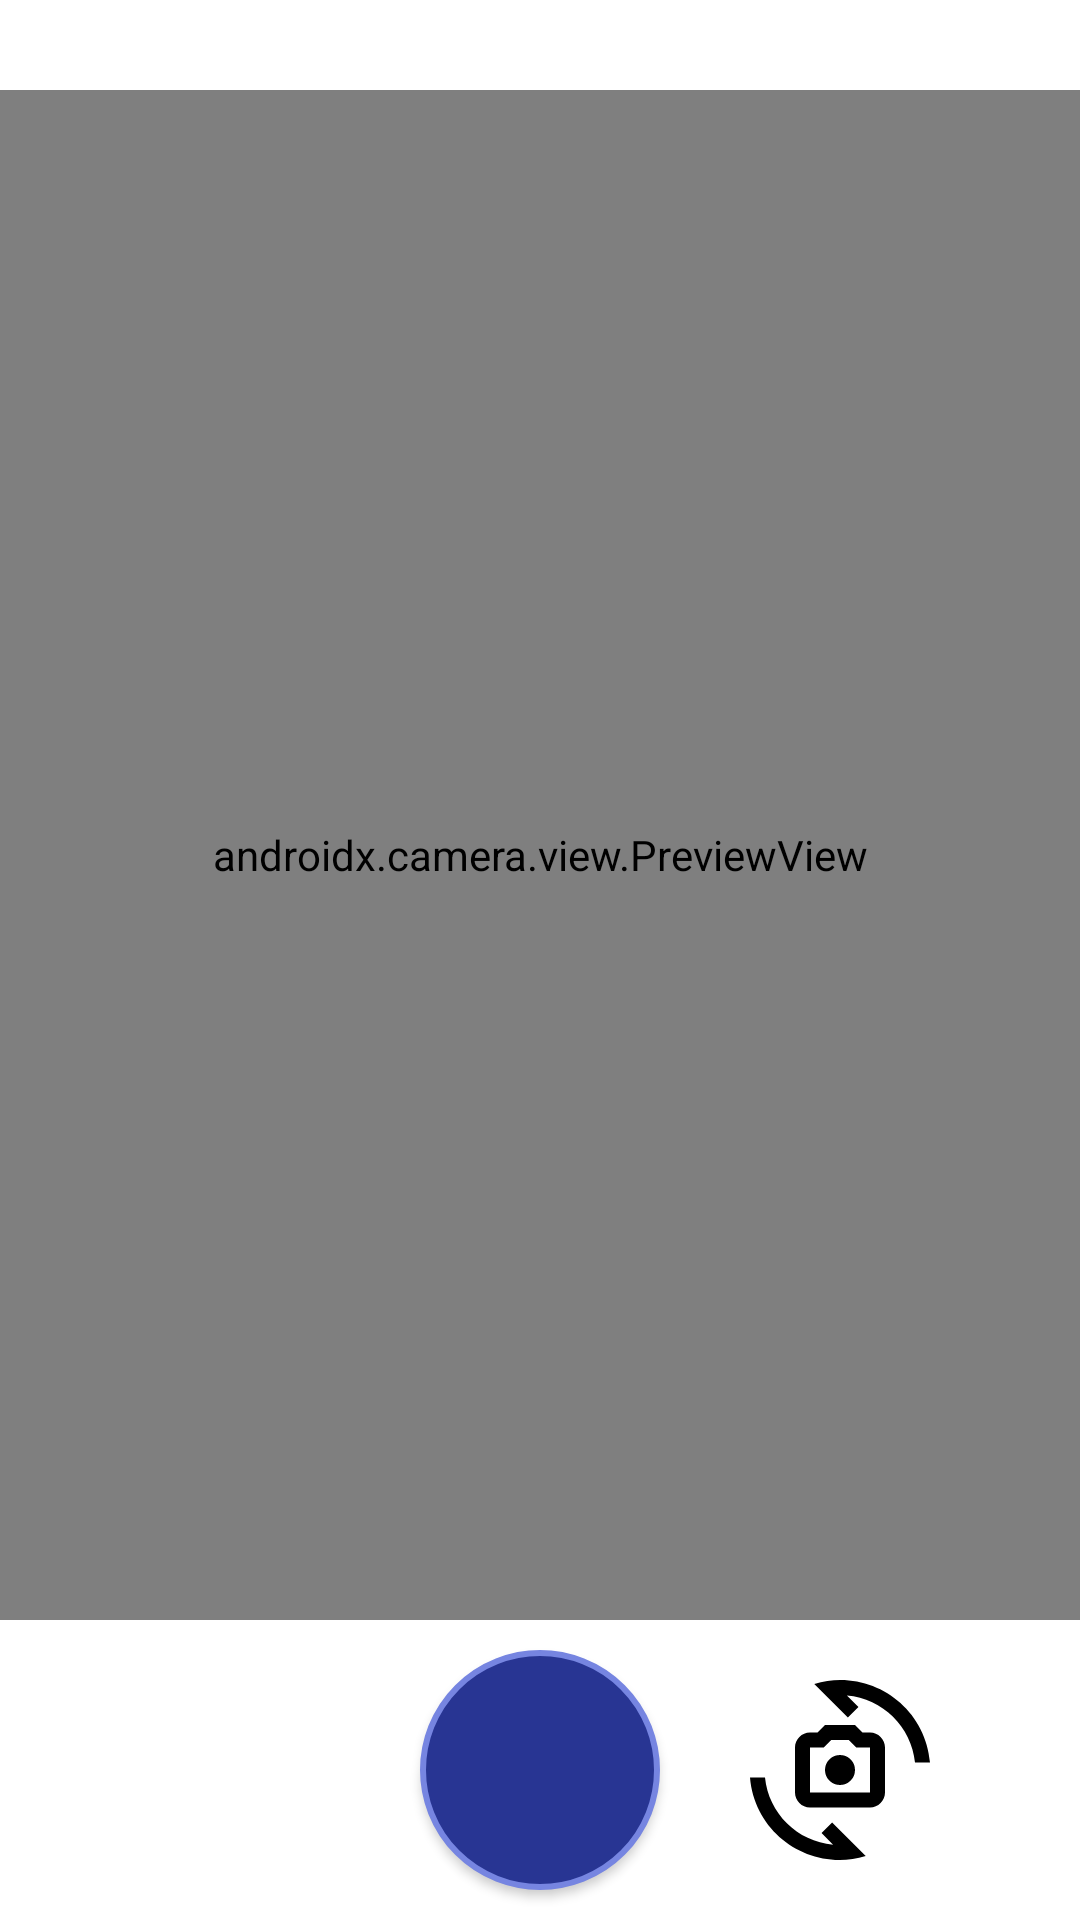

Named icons in this screenshot (1080 × 1920) and their bounding boxes, BBox(x1, y1, x2, y2):
cameraswitch: BBox(750, 1680, 930, 1860)
